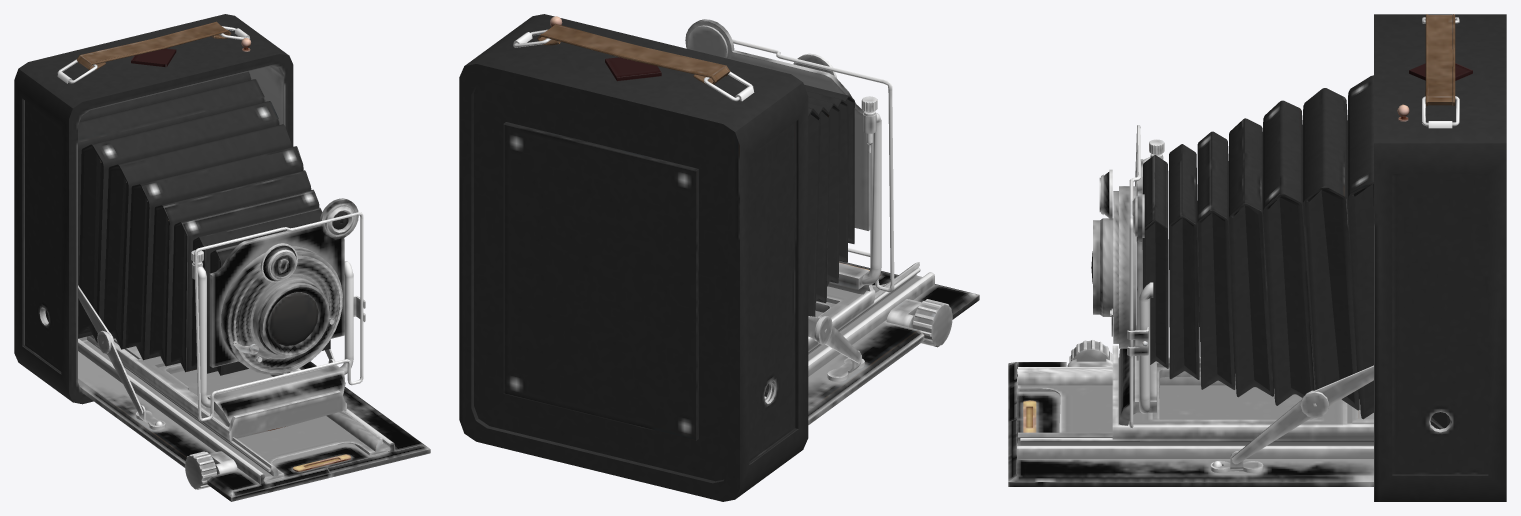
File: camera.glb
3 renders of one model, left to right at view 1: azimuth 30°, elevation 25°; view 2: azimuth 150°, elevation 25°; view 3: azimuth 270°, elevation 25°, orthographic. The views are drawn at different scales.
Visible parts, largest first — view 1: camera; view 2: camera; view 3: camera.
Part boxes in pixels (x1,y1,x2,y2): camera: (14, 14, 430, 501); camera: (459, 14, 979, 501); camera: (1008, 14, 1506, 501).
Size of the model in its own units: 1.37 by 1.85 by 2.16.
Materials: 1 (1 with a texture image).
